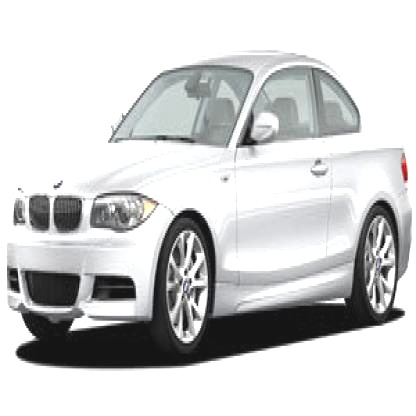Vehicle: (7, 58, 415, 340)
